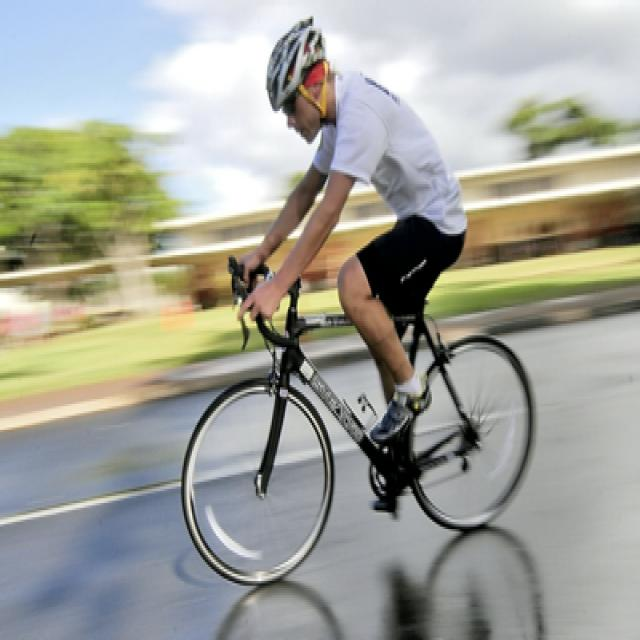helmet: (246, 29, 331, 100)
